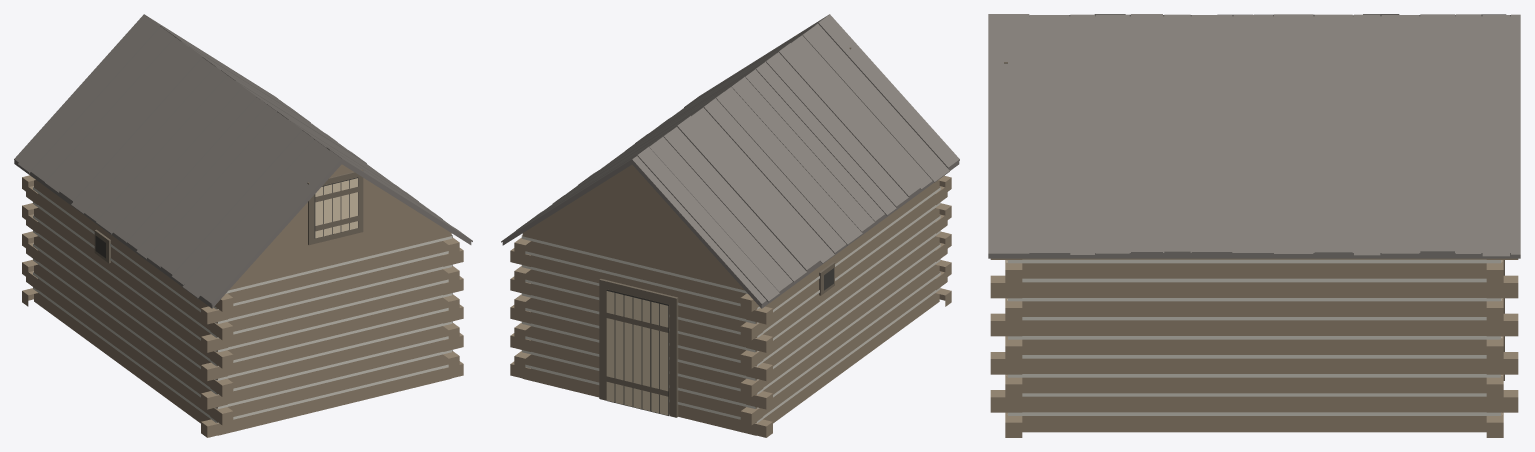
File: recon_1835_blk_south_water_lasalle_a1_06__inferred_1835.glb
3 views of the same model, side by side, from view 1: azimuth 30°, elevation 25°; view 2: azimuth 150°, elevation 25°; view 3: azimuth 270°, elevation 25° (orthographic). The views are drawn at different scales.
Visible parts, largest first — view 1: recon_1835_blk_south_water_lasalle_a1_06__inferred_1835; view 2: recon_1835_blk_south_water_lasalle_a1_06__inferred_1835; view 3: recon_1835_blk_south_water_lasalle_a1_06__inferred_1835.
Boxes of the visible parts, x1=… form: recon_1835_blk_south_water_lasalle_a1_06__inferred_1835: x1=14, y1=14, x2=472, y2=437; recon_1835_blk_south_water_lasalle_a1_06__inferred_1835: x1=501, y1=14, x2=959, y2=437; recon_1835_blk_south_water_lasalle_a1_06__inferred_1835: x1=988, y1=14, x2=1520, y2=437.
Bounding box in the file's own units: 5.7 × 5.24 × 7.39.
